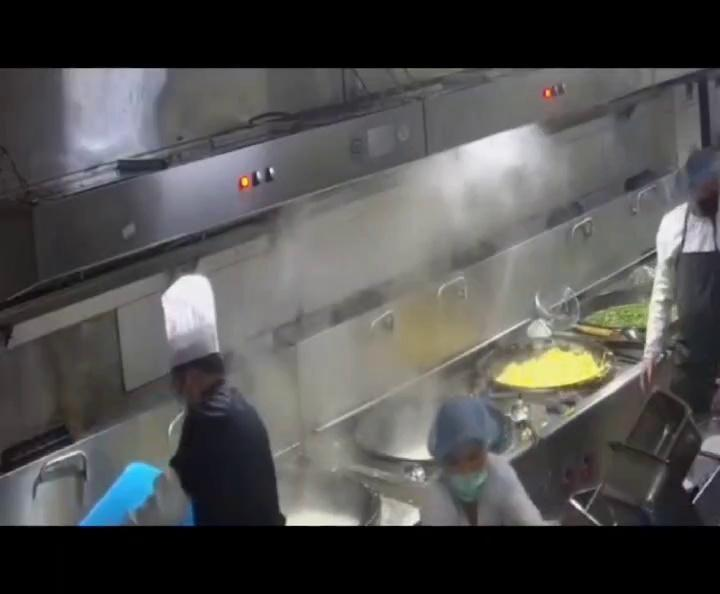gloves: (428, 397, 504, 462)
